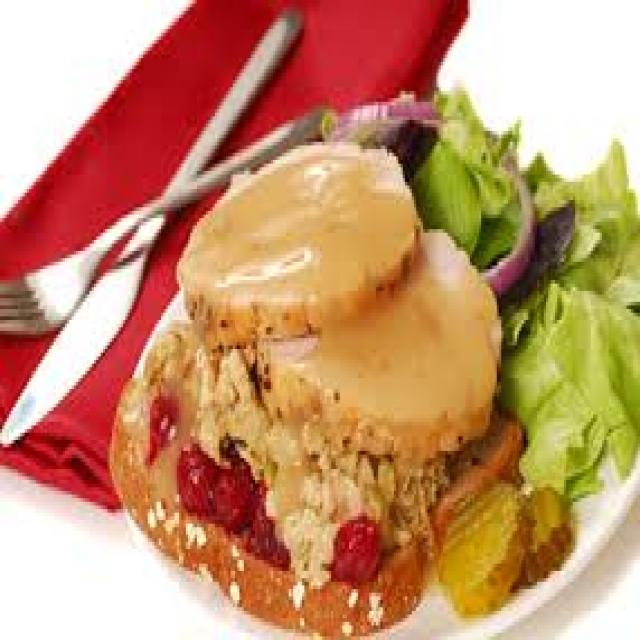organic waste: (110, 316, 524, 636), (260, 222, 494, 462), (172, 134, 416, 342), (320, 106, 535, 298), (494, 280, 638, 498), (514, 142, 638, 309), (436, 80, 520, 262), (441, 472, 528, 614), (414, 135, 479, 269), (253, 422, 322, 545), (506, 204, 577, 302), (179, 433, 257, 520), (183, 364, 262, 447), (510, 476, 573, 578), (318, 451, 387, 524), (329, 509, 385, 571), (143, 382, 184, 462), (250, 512, 298, 574), (293, 506, 327, 578), (392, 120, 434, 160)
